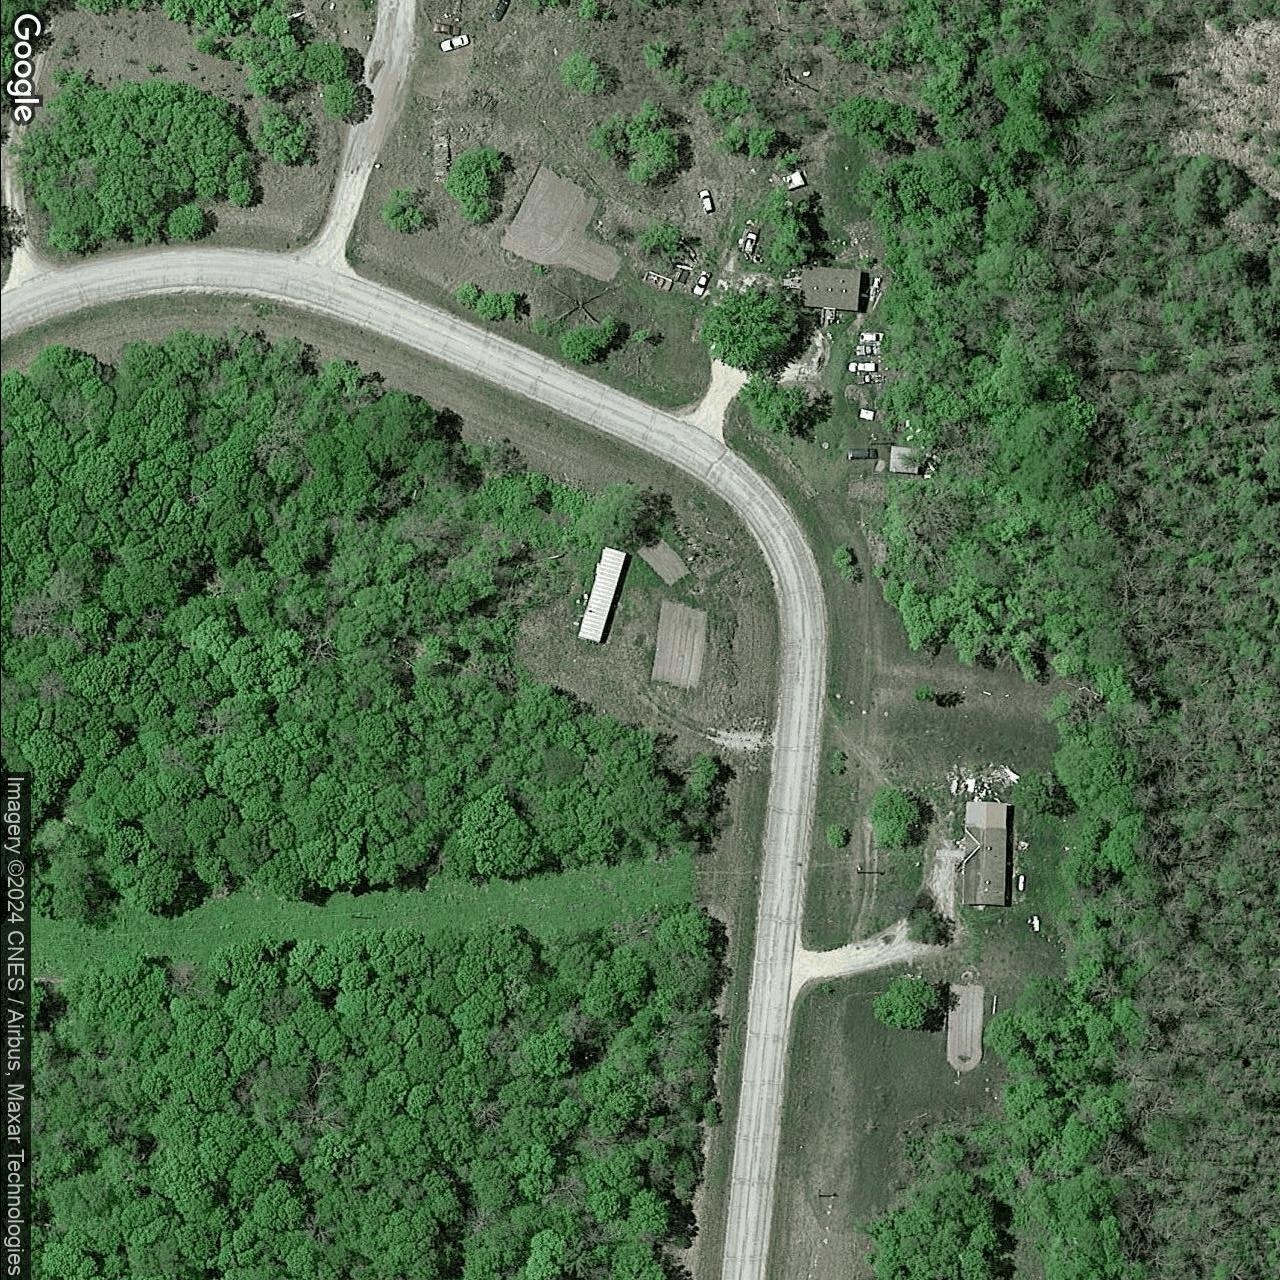House: (960, 801, 1008, 907), (802, 266, 860, 312)
Propane: (1015, 873, 1027, 893)
Trailer: (577, 544, 627, 645)
